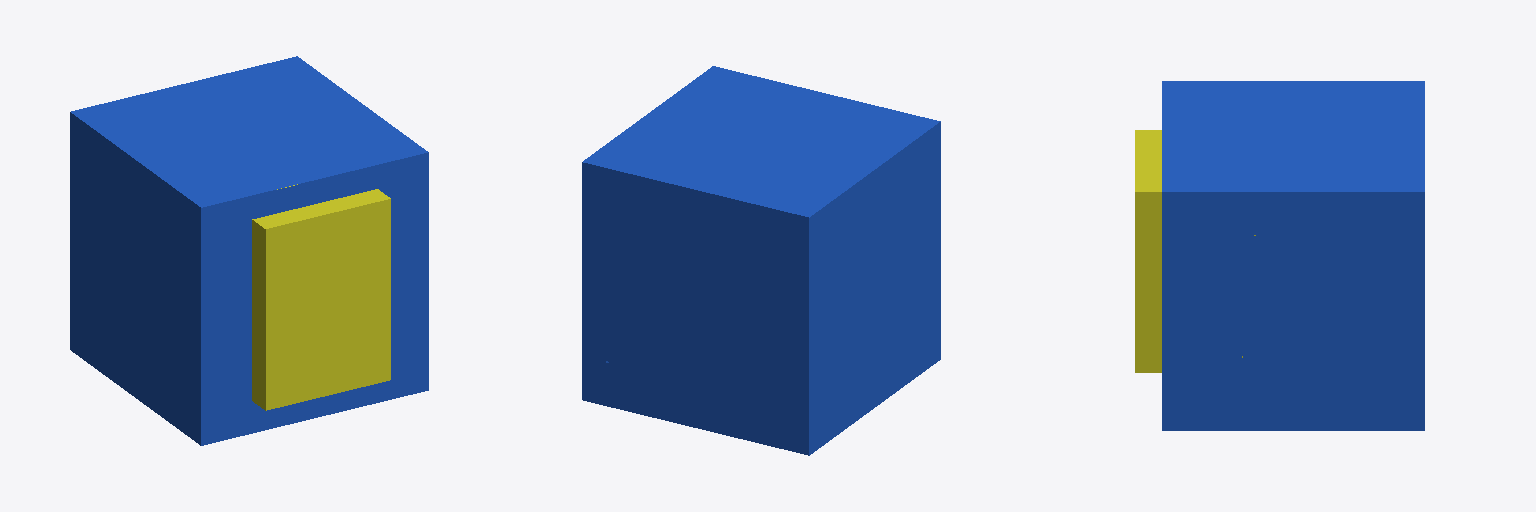
The picture shows the model from 3 angles: view 1: azimuth 30°, elevation 25°; view 2: azimuth 150°, elevation 25°; view 3: azimuth 270°, elevation 25°; orthographic projection.
Parts seen in each view (by area): view 1: 立方体; view 2: 立方体; view 3: 立方体.
Part boxes in pixels (x1,y1,x2,y2): 立方体: (70,56,428,445); 立方体: (582,66,940,455); 立方体: (1135,81,1424,430).
Size of the model in its own units: 2 by 2 by 2.2.
1 materials, 1 textured.